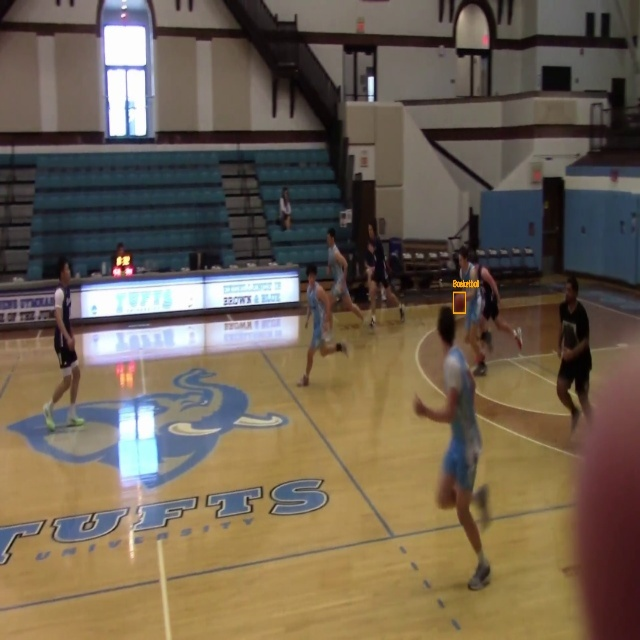Basketball: (453, 293, 465, 313)
